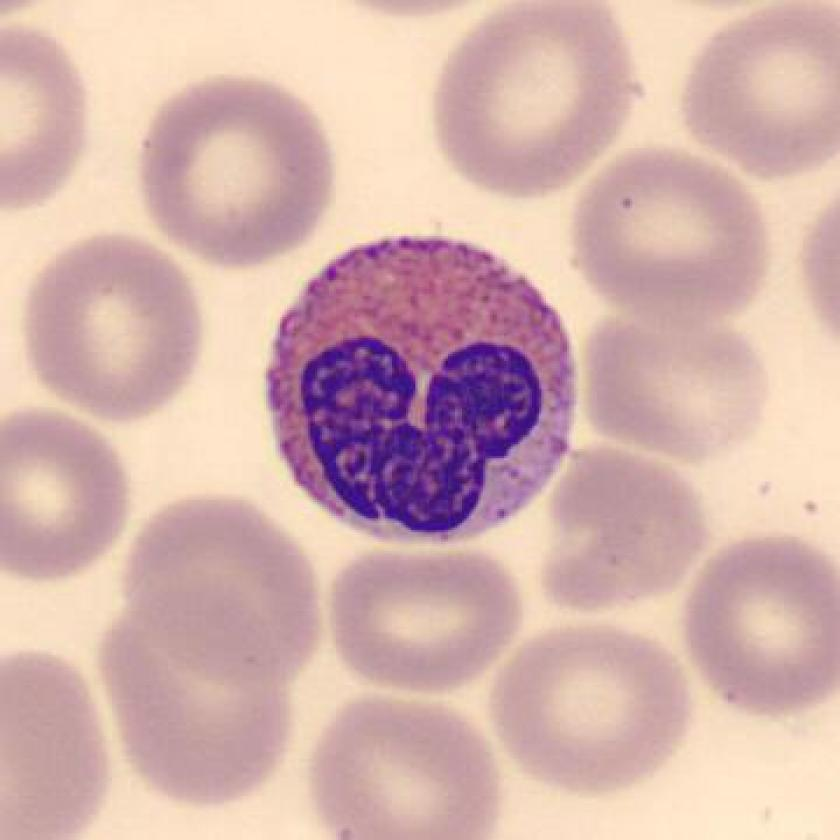eosinophil: (253, 228, 591, 561)
